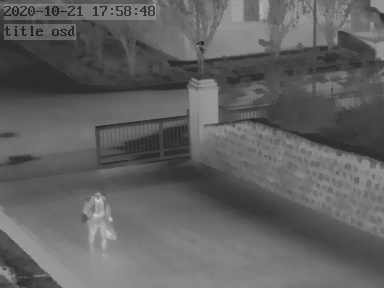person: (85, 190, 112, 252)
